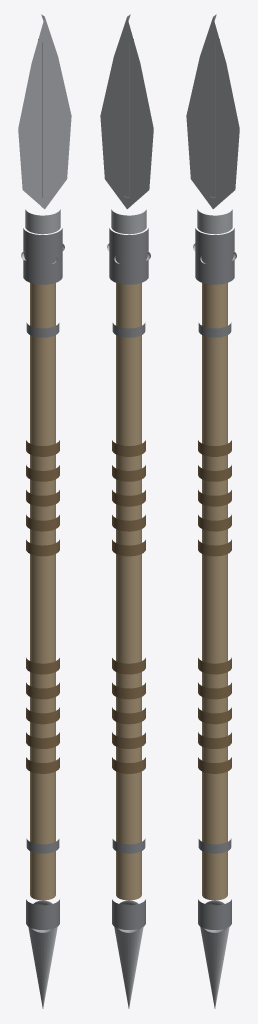
File: iron_spear.glb
3 renders of one model, left to right at view 1: azimuth 30°, elevation 25°; view 2: azimuth 150°, elevation 25°; view 3: azimuth 330°, elevation 25°, orthographic.
Parts seen in each view (by area): view 1: IronSpear; view 2: IronSpear; view 3: IronSpear.
Part boxes in pixels (x1,y1,x2,y2): IronSpear: [18, 14, 71, 1008]; IronSpear: [100, 14, 153, 1008]; IronSpear: [186, 14, 239, 1008].
Size of the model in its own units: 0.18 by 3.2 by 0.144.
